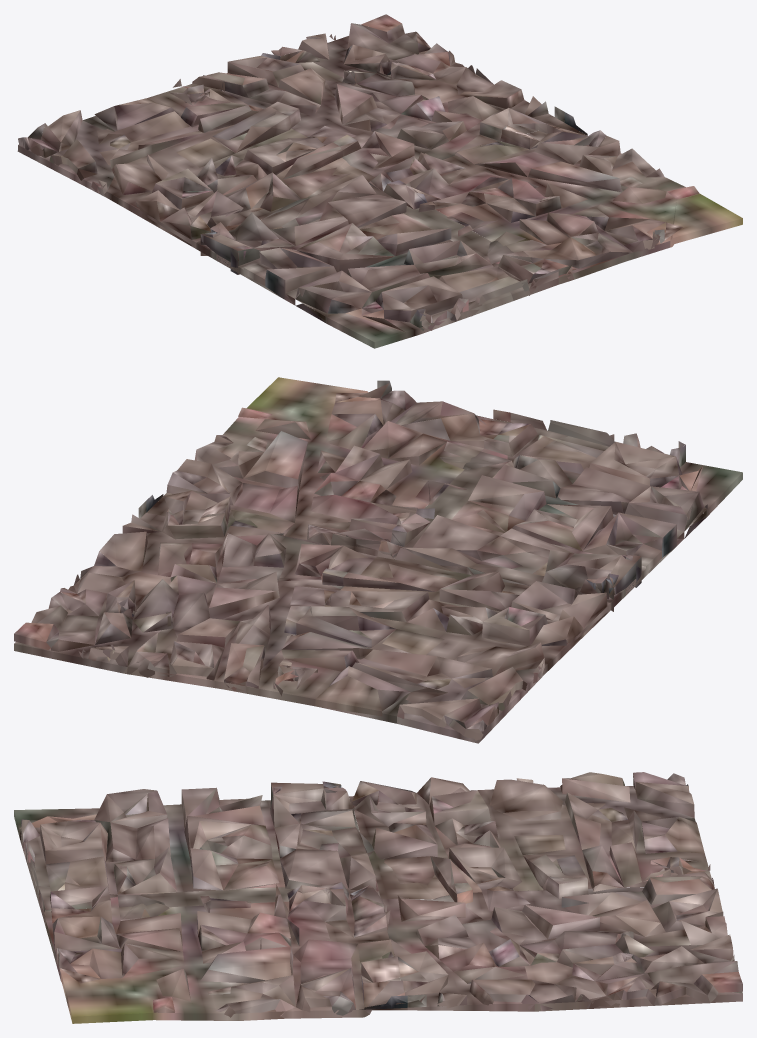
3 renders of one model, top to bottom at view 1: azimuth 30°, elevation 25°; view 2: azimuth 150°, elevation 25°; view 3: azimuth 270°, elevation 25°, orthographic. The views are drawn at different scales.
Visible parts, largest first — view 1: Mesh_0; view 2: Mesh_0; view 3: Mesh_0.
Boxes of the visible parts, left/top/right/bottom form: Mesh_0: left=17, top=14, right=742, bottom=348; Mesh_0: left=14, top=377, right=742, bottom=743; Mesh_0: left=14, top=772, right=742, bottom=1023.
Bounding box in the file's own units: 1074 × 84.13 × 1318.
2 materials, 2 textured.
